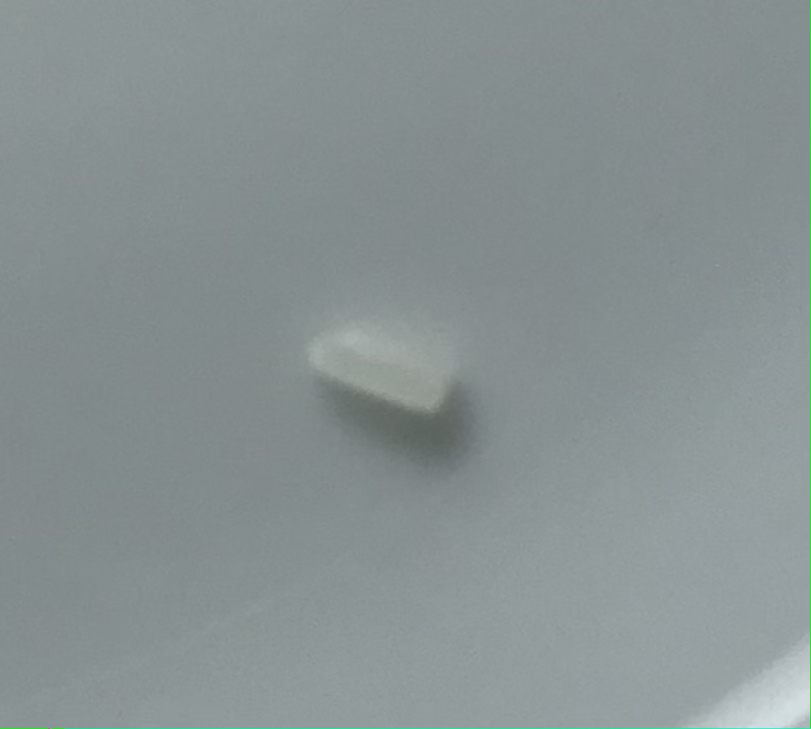Gao Tam: (302, 300, 455, 421)
